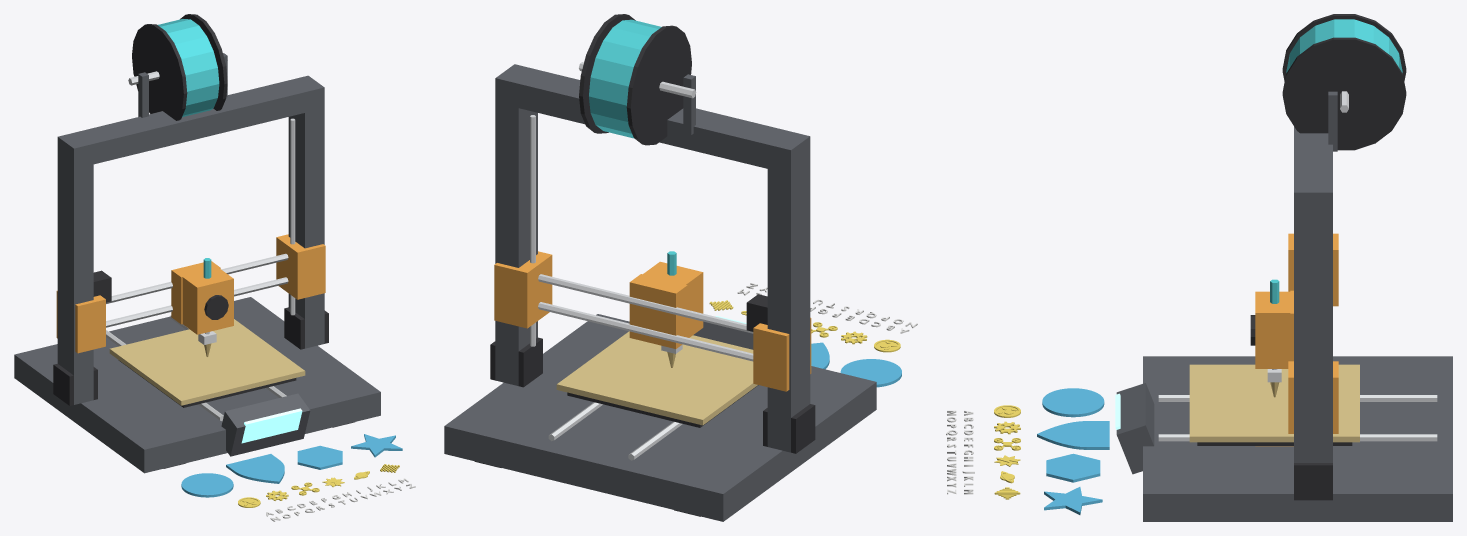
Rendered from printer.glb.
3 views of the same model, side by side, from view 1: azimuth 30°, elevation 25°; view 2: azimuth 150°, elevation 25°; view 3: azimuth 270°, elevation 25° (orthographic). The views are drawn at different scales.
Visible parts, largest first — view 1: printer_frame, print_bed, print_gantry, print_head, badge_shield, badge_circle, badge_hex, badge_star; view 2: printer_frame, print_bed, print_gantry, print_head, badge_circle; view 3: printer_frame, print_bed, print_head, badge_shield, print_gantry, badge_circle, badge_hex, badge_star.
Boxes of the visible parts, box(x1,y1,x2,y2) form: printer_frame: box(14, 14, 380, 473); print_bed: box(109, 319, 305, 407); print_gantry: box(56, 234, 325, 353); print_head: box(171, 258, 233, 356); badge_shield: box(226, 454, 284, 483); badge_circle: box(181, 473, 233, 497); badge_hex: box(297, 445, 342, 469); badge_star: box(351, 434, 402, 457); printer_frame: box(444, 14, 876, 521); print_bed: box(556, 331, 758, 427); print_gantry: box(494, 251, 811, 391); print_head: box(629, 251, 703, 367); badge_circle: box(840, 359, 901, 387); printer_frame: box(1115, 14, 1452, 521); print_bed: box(1189, 364, 1359, 446); print_head: box(1250, 279, 1293, 397); badge_shield: box(1037, 421, 1109, 449); print_gantry: box(1288, 233, 1338, 433); badge_circle: box(1042, 388, 1104, 417); badge_hex: box(1046, 453, 1100, 482); badge_star: box(1044, 487, 1102, 514).
Bounding box in the file's own units: 0.46 × 0.6148 × 0.6543.
